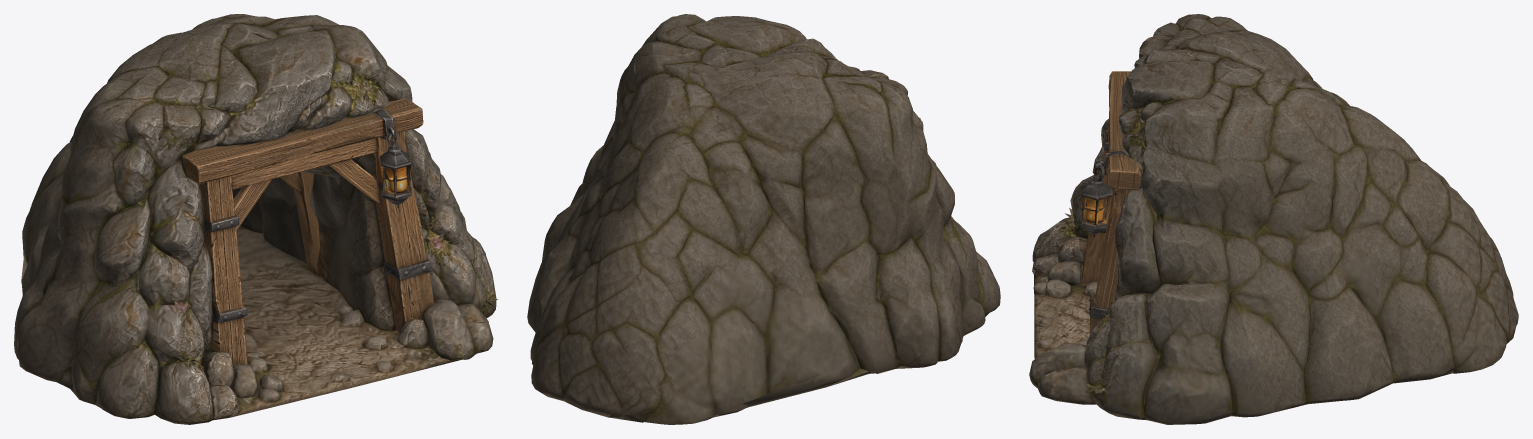
Rendered from poi_cave.glb.
3 views of the same model, side by side, from view 1: azimuth 30°, elevation 25°; view 2: azimuth 150°, elevation 25°; view 3: azimuth 270°, elevation 25° (orthographic). The views are drawn at different scales.
Visible parts, largest first — view 1: Mesh_0; view 2: Mesh_0; view 3: Mesh_0.
Part boxes in pixels (<box>): Mesh_0: <box>14,14,498,424</box>; Mesh_0: <box>527,14,1000,424</box>; Mesh_0: <box>1029,14,1518,424</box>.
Bounding box in the file's own units: 1.88 × 1.16 × 1.9.
Materials: 1 (1 with a texture image).
